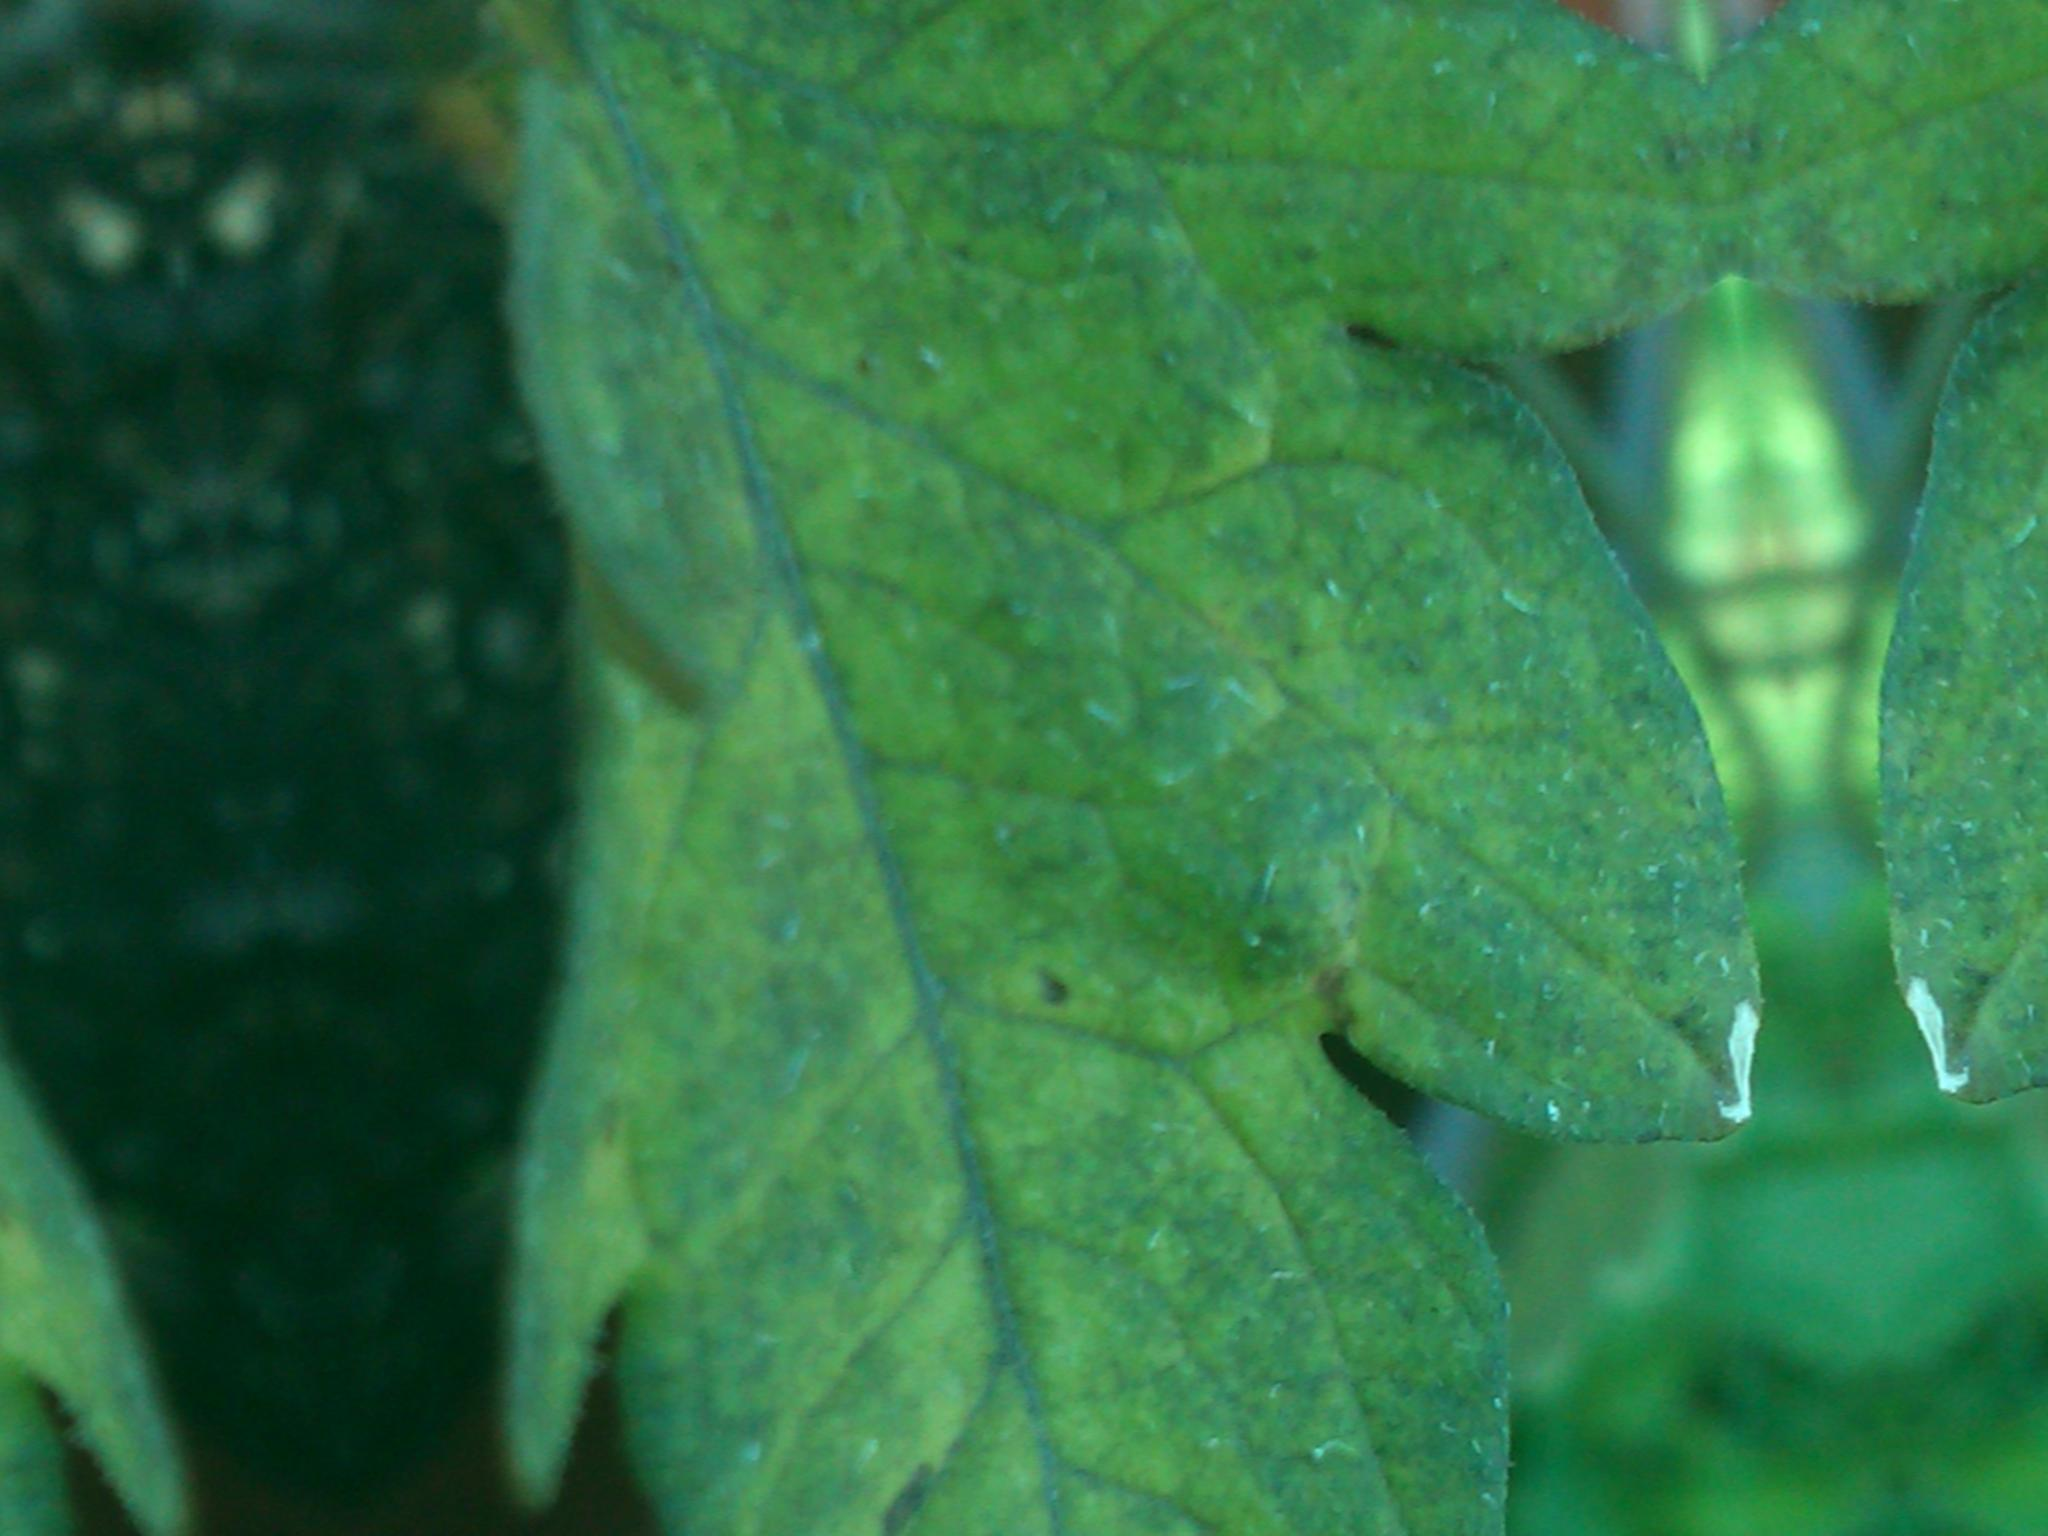Tomato mold leaf: (218, 0, 1900, 1536)
